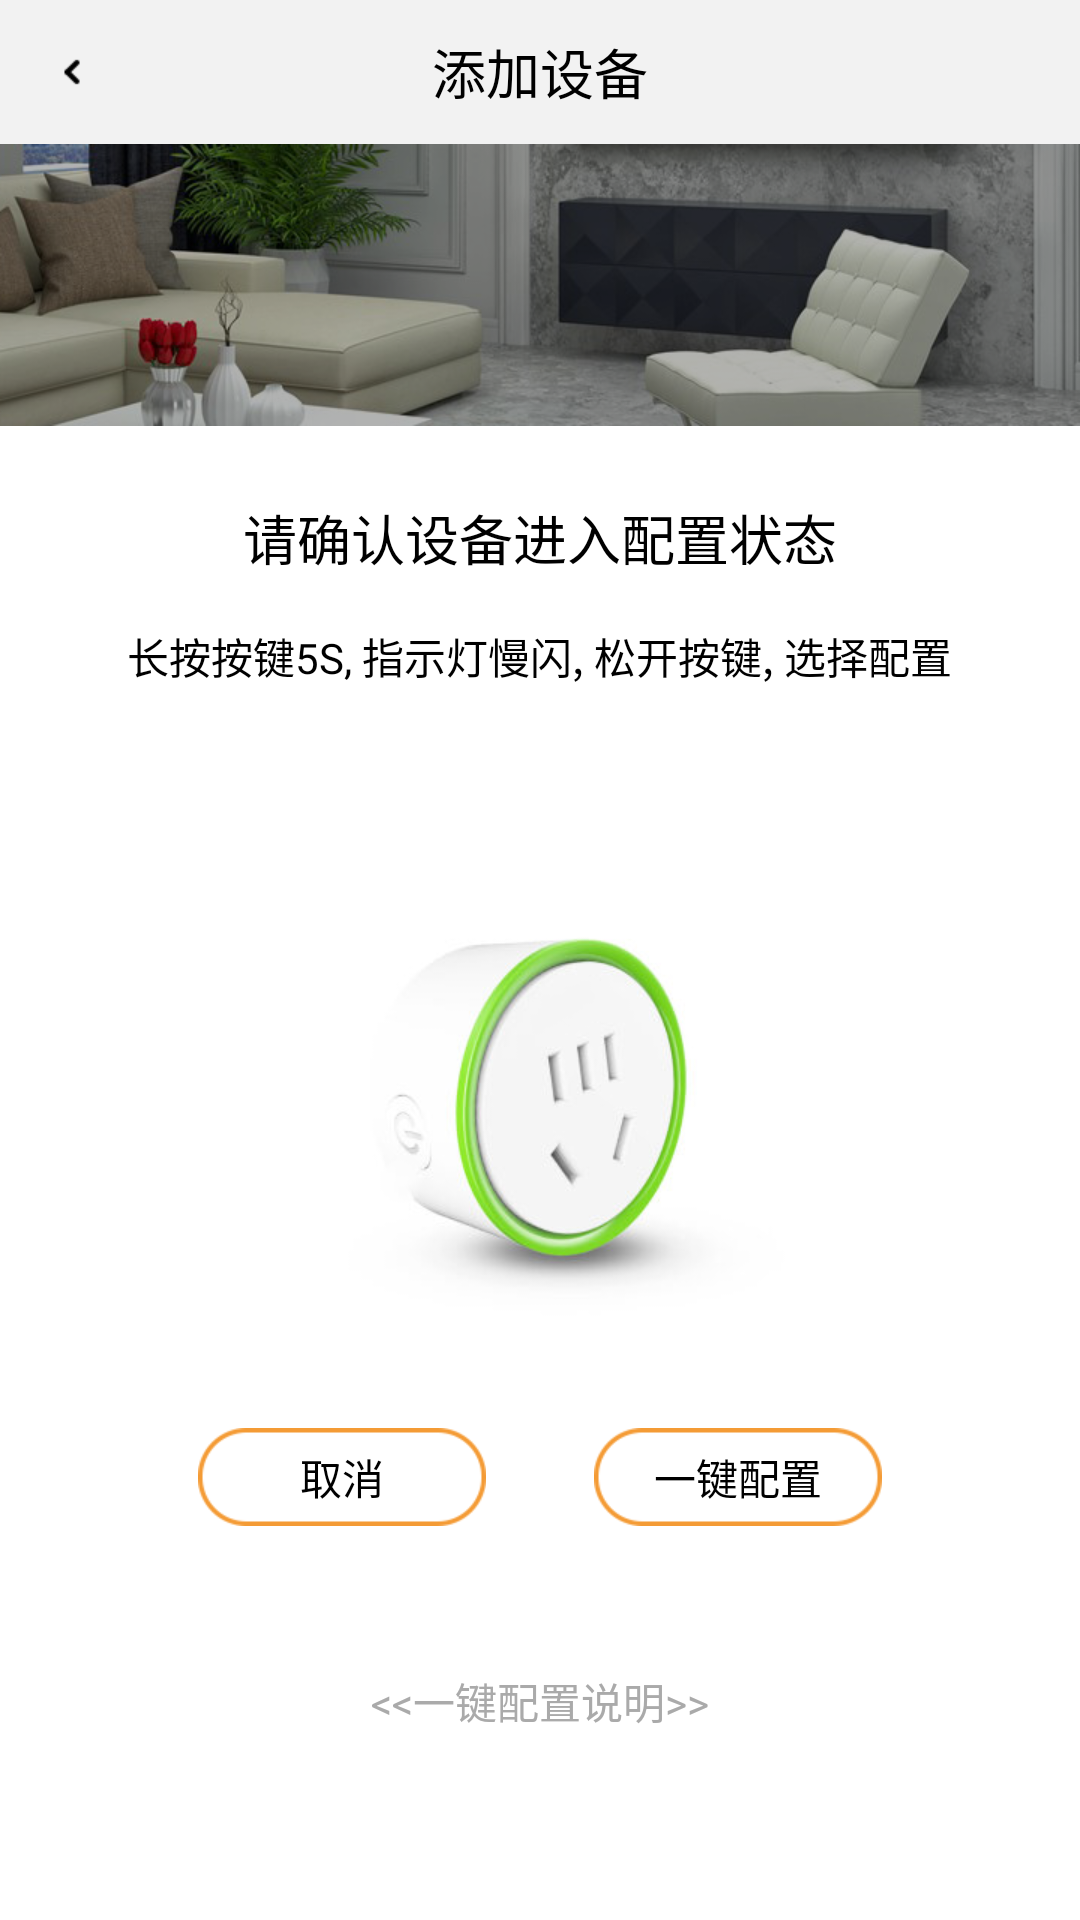

Named icons in this screenshot (1080 x 1920) and their bounding boxes, (x1=x1, y1=y1, x2=x2, y2=y2):
back: (x1=64, y1=59, x2=80, y2=85)
plug demo: (x1=397, y1=939, x2=687, y2=1277)
